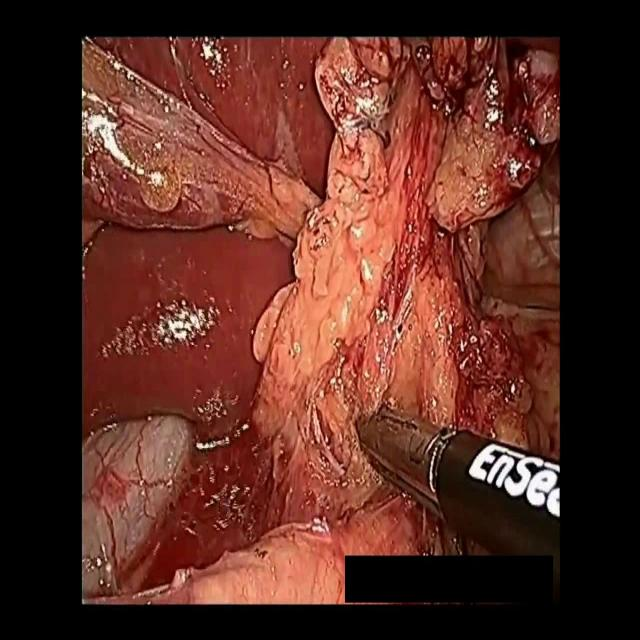surgical-area: (82, 37, 562, 603)
surgical-tool: (355, 405, 560, 556)
